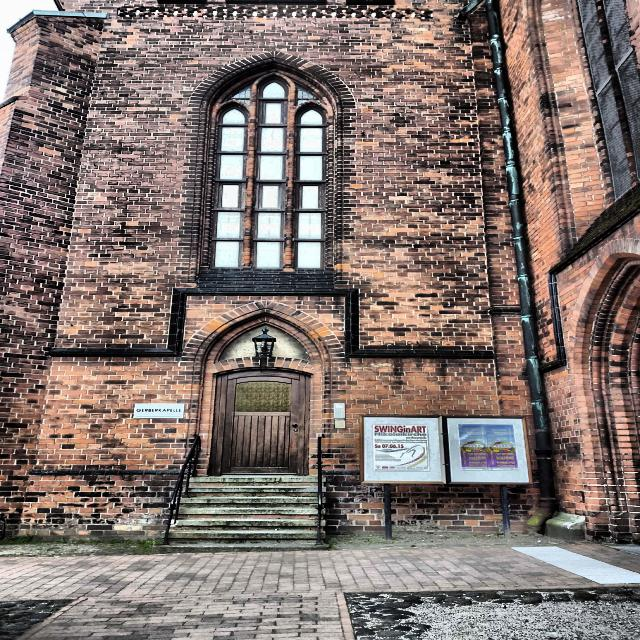escada: (161, 476, 323, 552)
